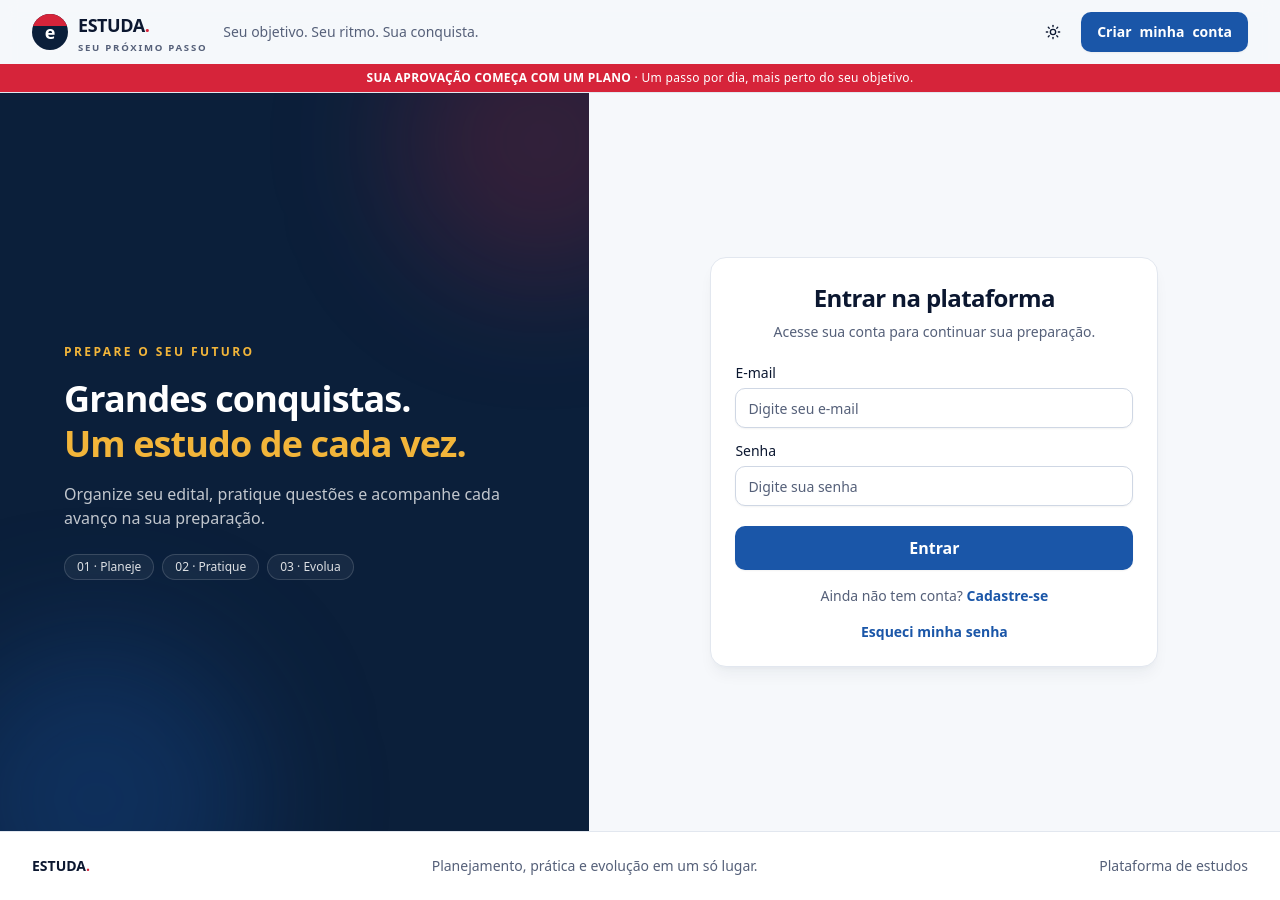
Test: App - autenticacao › depois do login volta para a pagina protegida que o aluno tentou abrir
This screenshot has width=1280, height=900.
Step 1. Type "ana@email.com" into the field labelled "E-mail" → (934, 408), box [735, 388, 1133, 428]
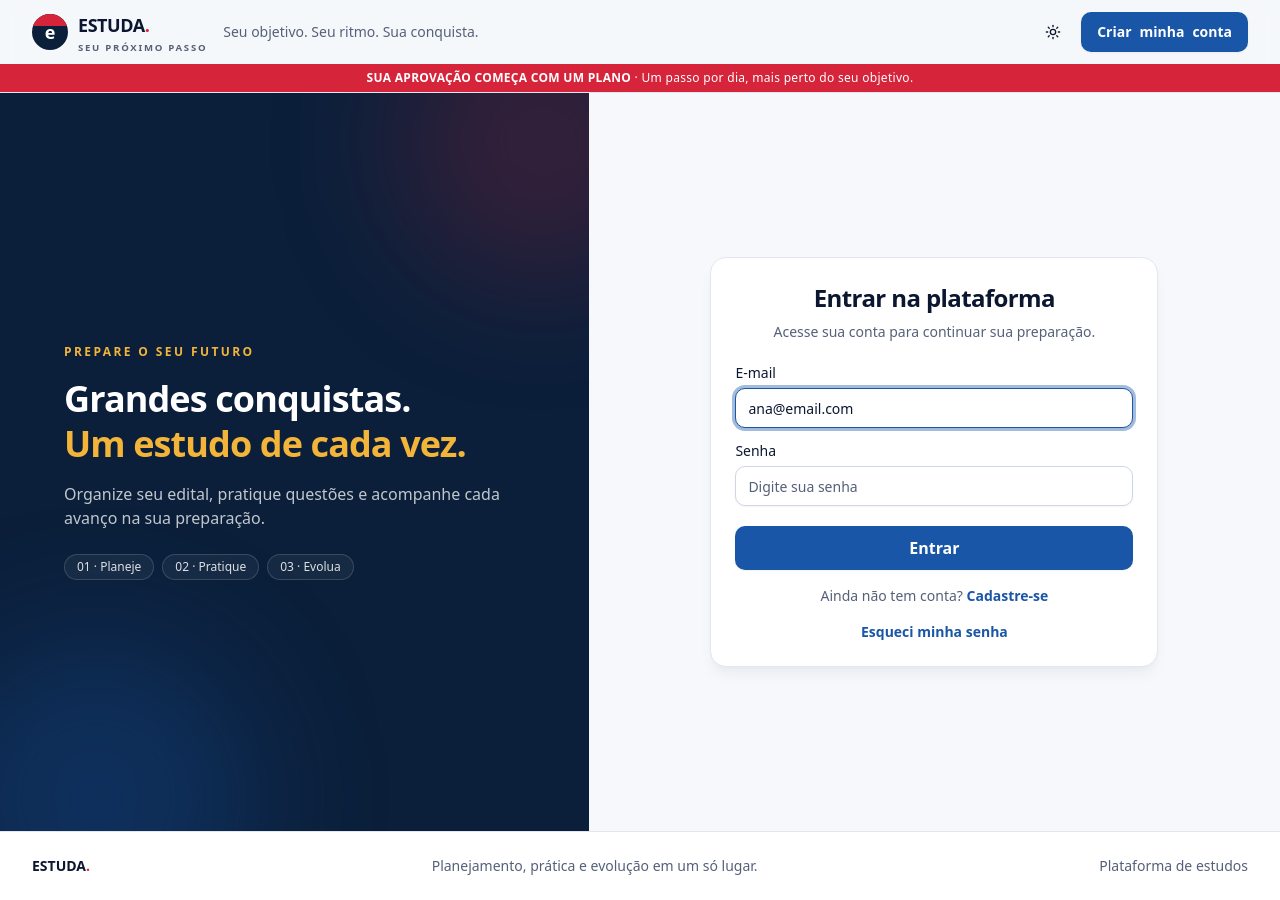
Step 2. Type "senha1234" into the password field labelled "Senha" → (934, 486), box [735, 466, 1133, 506]
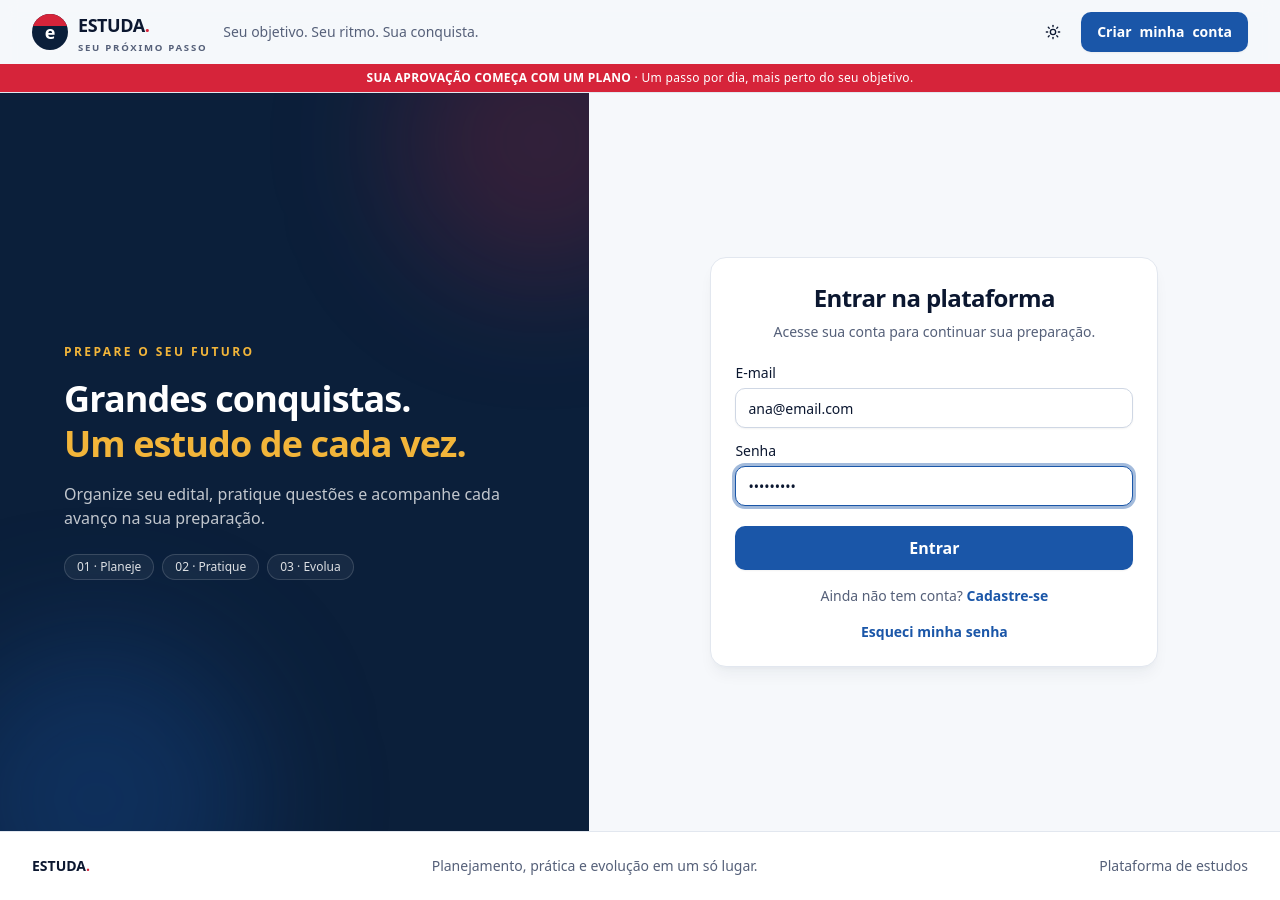
Step 3. Click the button "Entrar" → (934, 548), box [735, 526, 1133, 570]
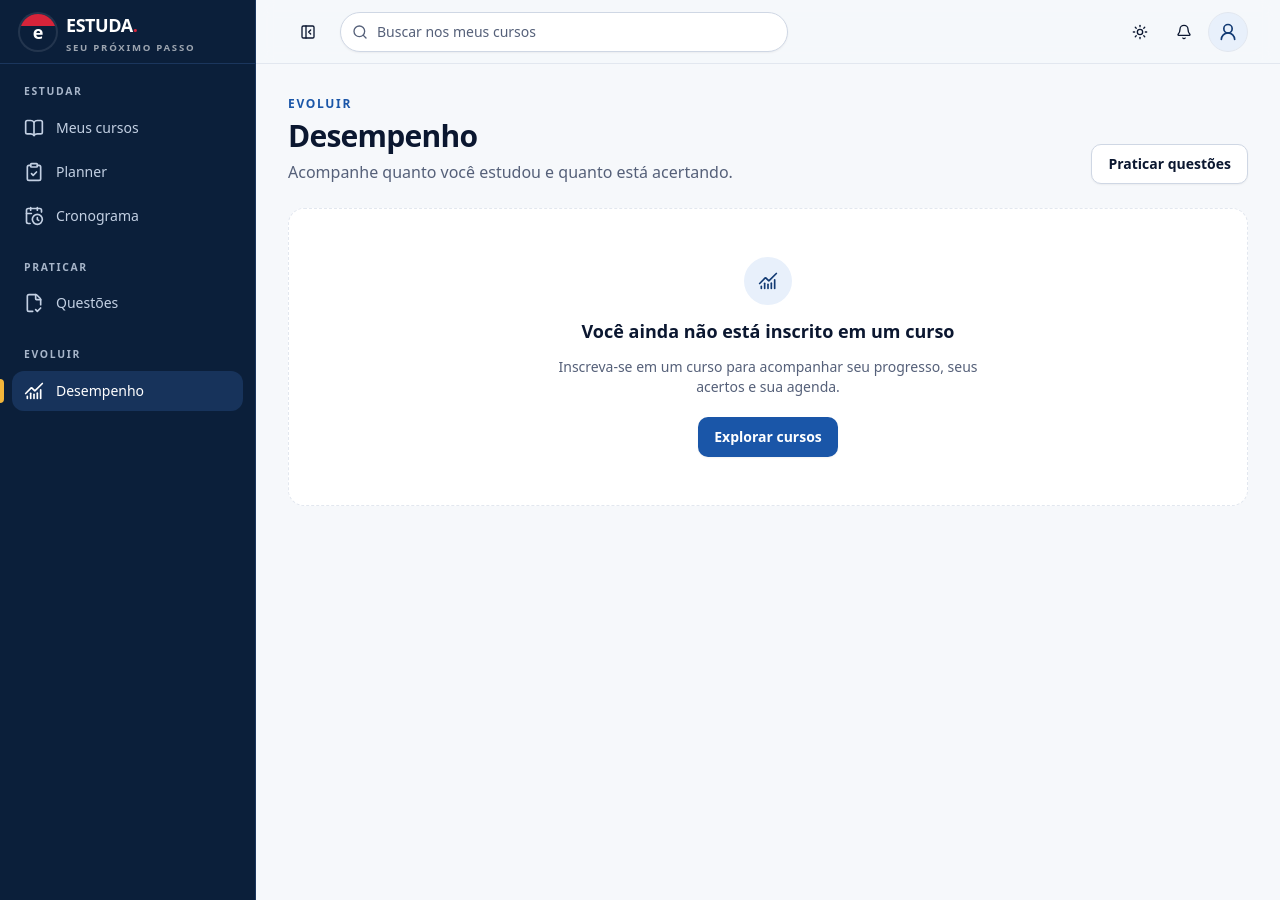
Check: the heading "Desempenho" is shown, box [288, 115, 477, 156]
